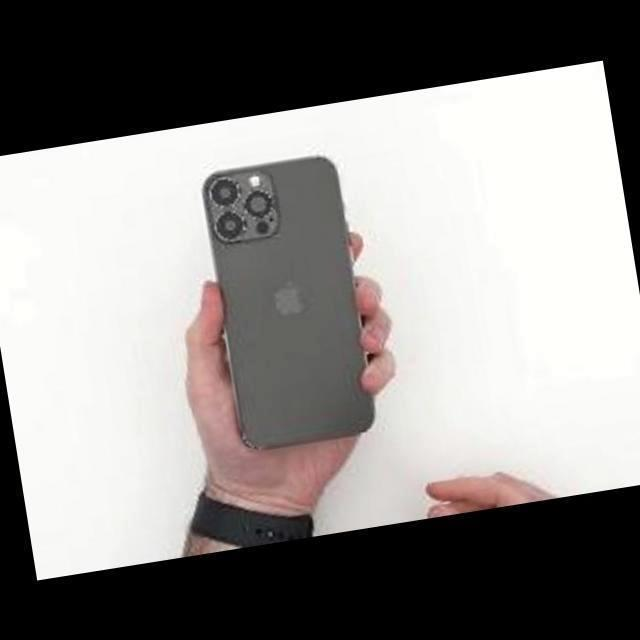lens_back: (210, 176, 242, 210), (215, 210, 244, 240), (246, 191, 272, 217)
phone: (202, 153, 378, 452)
